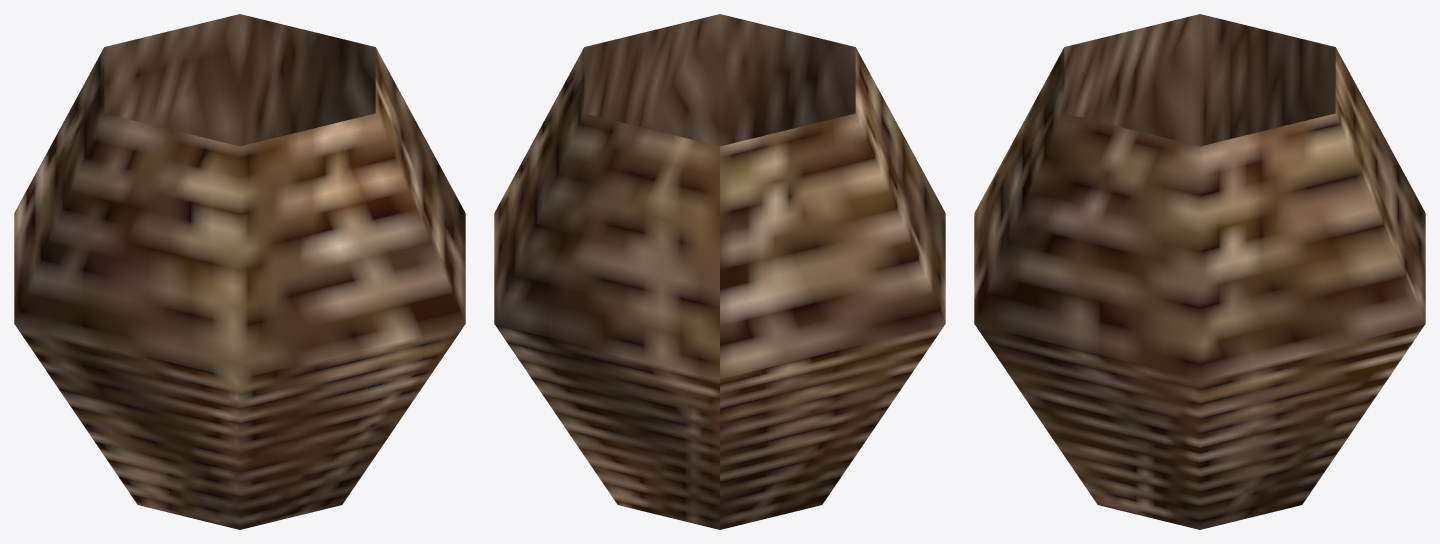
File: basket.glb
The picture shows the model from 3 angles, left to right: view 1: azimuth 30°, elevation 25°; view 2: azimuth 150°, elevation 25°; view 3: azimuth 270°, elevation 25°; orthographic projection.
Parts seen in each view (by area): view 1: basket; view 2: basket; view 3: basket.
Boxes of the visible parts, box(x1,y1,x2,y2) form: basket: box(14, 14, 465, 529); basket: box(494, 14, 945, 529); basket: box(974, 14, 1425, 529).
Size of the model in its own units: 1.18 by 1 by 1.02.
Materials: 1 (1 with a texture image).
